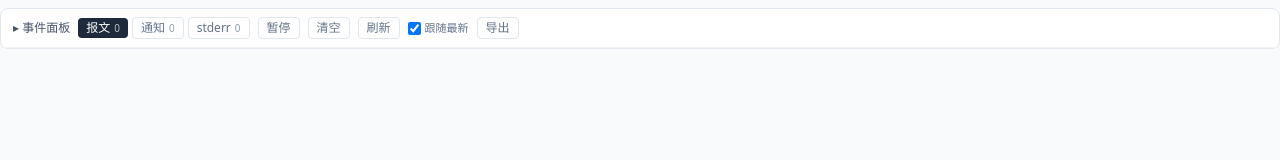
EventPanel › 按 id 配对请求和响应并展示生效方法
Step 1. Click the button "▸ 事件面板" → (42, 28), box [13,20,70,36]
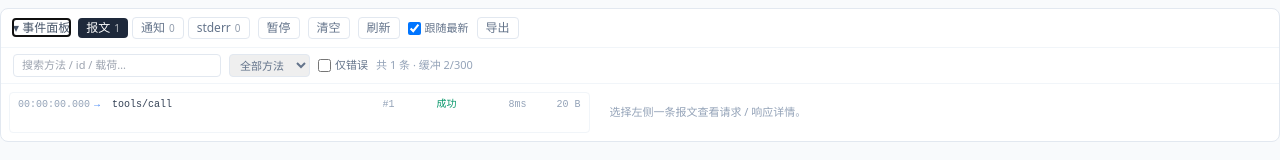
Check: the text "共 1 条 · 缓冲 2/300" is shown, box [376,57,473,74]
